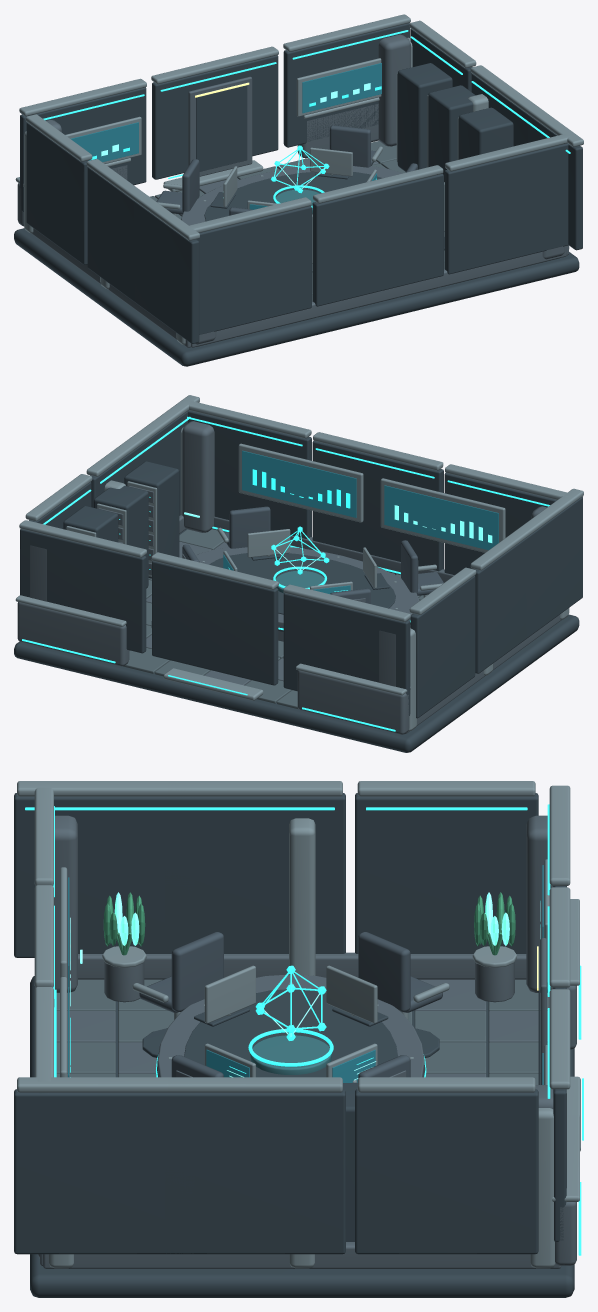
File: ReferenceRoom.fbx
3 views of the same model, one above another, from view 1: azimuth 30°, elevation 25°; view 2: azimuth 150°, elevation 25°; view 3: azimuth 270°, elevation 25° (orthographic). The views are drawn at different scales.
Visible parts, largest first — view 1: Painel posterior.001, Painel posterior.002, Painel posterior, Base facetada, Parede interna entrada.001, Painel lateral.002, Painel lateral, Parede interna entrada.002, Painel lateral.001, Rodape posterior, Miolo portal, Parede interna entrada (+32 smaller); view 2: Parede interna entrada.001, Base facetada, Parede interna entrada.002, Parede interna entrada, Painel posterior.001, Painel lateral, Painel lateral.002, Painel posterior.002, Painel lateral.001, Peitoril frontal, Peitoril frontal.001, Vidro painel.001 (+41 smaller); view 3: Painel lateral.003, Painel lateral.004, Painel lateral.005, Painel lateral, Painel lateral.001, Painel lateral.002, Base facetada, Inserto mesa, Rodape lateral.001, Rodape lateral, Tampo mesa, Contraforte externo.001 (+48 smaller).
Part boxes in pixels (<box>): Painel posterior.001: <box>312,173,443,306</box>; Painel posterior.002: <box>444,143,568,274</box>; Painel posterior: <box>196,206,311,334</box>; Base facetada: <box>14,196,579,366</box>; Parede interna entrada.001: <box>152,55,278,179</box>; Painel lateral.002: <box>134,202,199,343</box>; Painel lateral: <box>26,122,88,264</box>; Parede interna entrada.002: <box>283,23,410,147</box>; Painel lateral.001: <box>87,167,144,308</box>; Rodape posterior: <box>191,246,566,347</box>; Miolo portal: <box>196,85,247,171</box>; Parede interna entrada: <box>20,87,146,211</box>; Parede interna entrada.001: <box>152,561,278,685</box>; Base facetada: <box>14,529,579,752</box>; Parede interna entrada.002: <box>20,529,146,653</box>; Parede interna entrada: <box>283,593,410,715</box>; Painel posterior.001: <box>312,440,443,571</box>; Painel lateral: <box>410,575,475,718</box>; Painel lateral.002: <box>526,497,582,637</box>; Painel posterior.002: <box>187,410,311,538</box>; Painel lateral.001: <box>474,531,535,673</box>; Peitoril frontal: <box>297,670,409,734</box>; Peitoril frontal.001: <box>17,602,129,666</box>; Vidro painel.001: <box>242,450,356,517</box>; Painel lateral.003: <box>355,1089,538,1254</box>; Painel lateral.004: <box>165,1089,345,1254</box>; Painel lateral.005: <box>14,1089,194,1254</box>; Painel lateral: <box>355,793,538,953</box>; Painel lateral.001: <box>165,793,345,953</box>; Painel lateral.002: <box>14,793,194,957</box>; Base facetada: <box>30,976,574,1297</box>; Inserto mesa: <box>184,989,397,1077</box>; Rodape lateral.001: <box>43,1242,561,1268</box>; Rodape lateral: <box>78,952,526,979</box>; Tampo mesa: <box>157,974,424,1077</box>; Contraforte externo.001: <box>289,818,315,975</box>.
Bounding box in the file's own units: 980 × 321 × 769.
